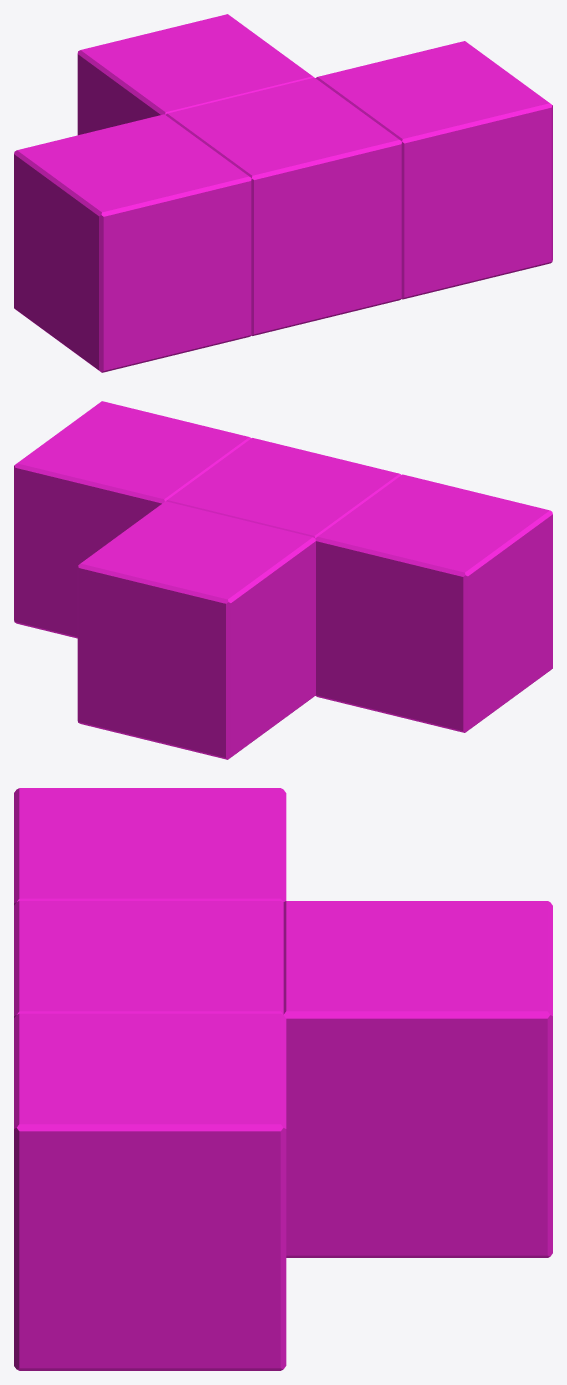
File: PiecePink.fbx
3 views of the same model, one above another, from view 1: azimuth 30°, elevation 25°; view 2: azimuth 150°, elevation 25°; view 3: azimuth 270°, elevation 25° (orthographic). The views are drawn at different scales.
Parts seen in each view (by area): view 1: PiecePink001; view 2: PiecePink001; view 3: PiecePink001.
Boxes of the visible parts, x1,y1,x2,y2 form: PiecePink001: (14, 14, 552, 372); PiecePink001: (14, 401, 552, 759); PiecePink001: (14, 788, 552, 1370).
Size of the model in its own units: 27.26 by 18.23 by 9.21.
